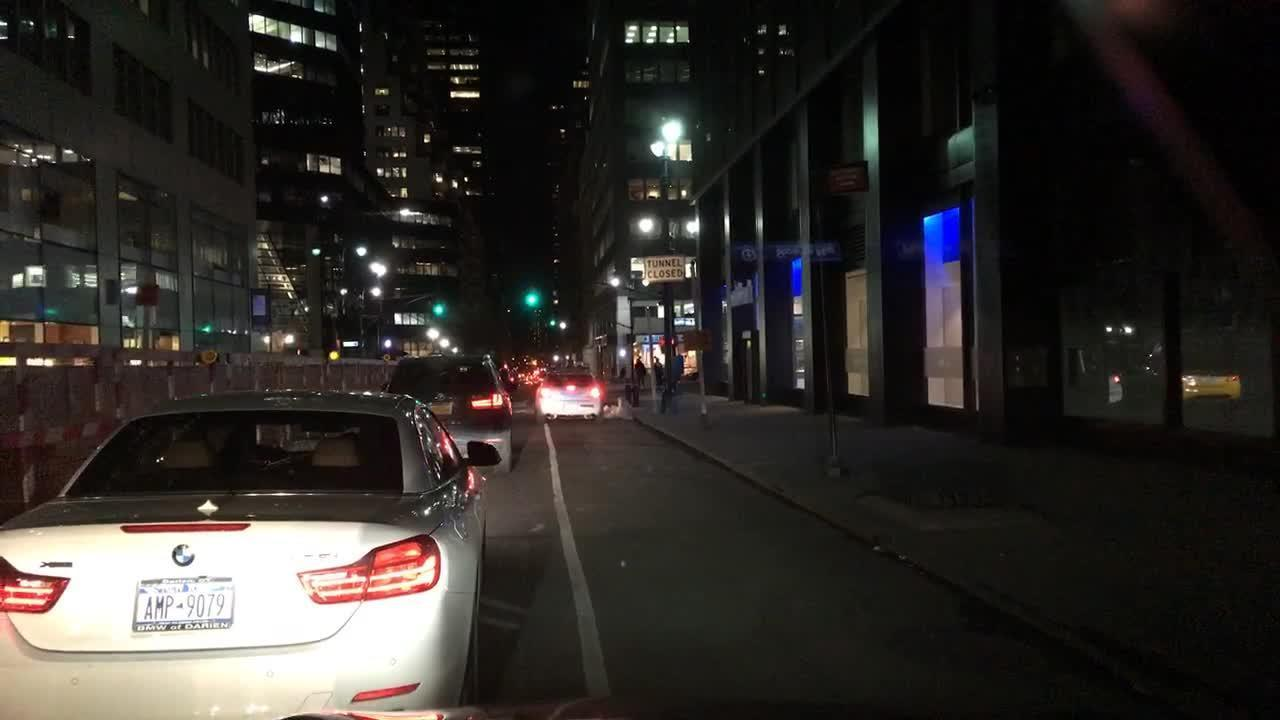bmw: (161, 535, 210, 573)
